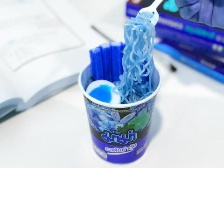paper_cup: (73, 51, 164, 168)
